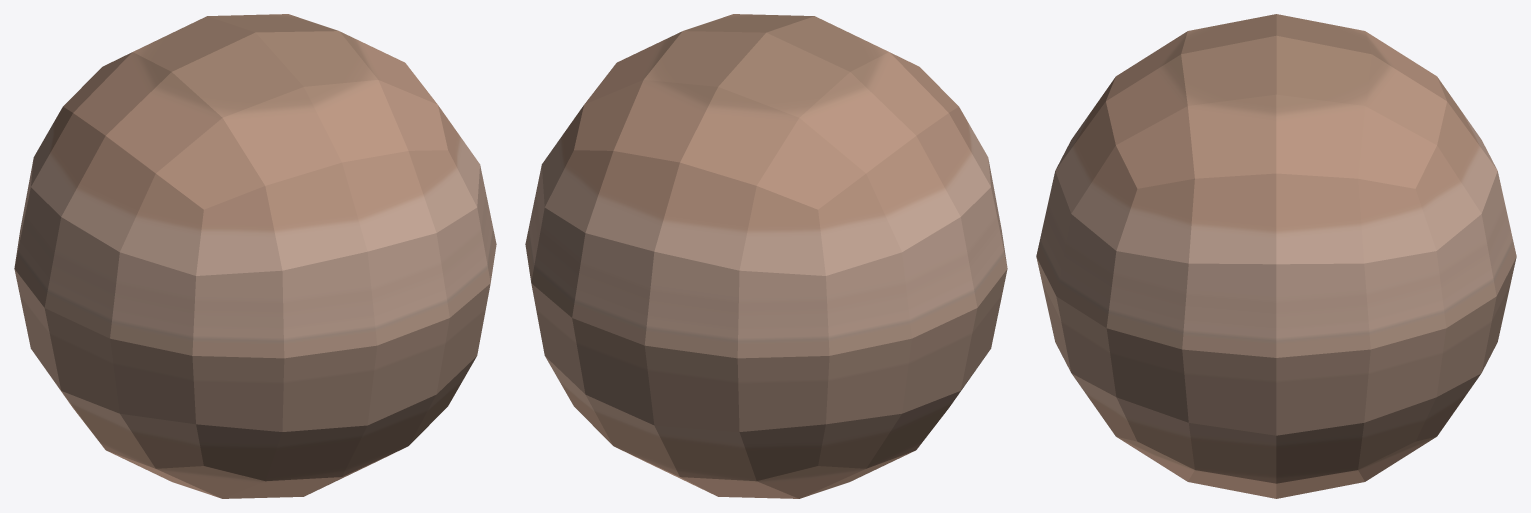
The model's file is SM_Env_Scale_Jupiter_01.fbx.
The picture shows the model from 3 angles, left to right: view 1: azimuth 30°, elevation 25°; view 2: azimuth 150°, elevation 25°; view 3: azimuth 270°, elevation 25°; orthographic projection.
Parts seen in each view (by area): view 1: SM_Env_Scale_Jupiter_01; view 2: SM_Env_Scale_Jupiter_01; view 3: SM_Env_Scale_Jupiter_01.
Boxes of the visible parts, bbox=[...] form: SM_Env_Scale_Jupiter_01: bbox=[14, 14, 496, 498]; SM_Env_Scale_Jupiter_01: bbox=[525, 14, 1007, 498]; SM_Env_Scale_Jupiter_01: bbox=[1036, 14, 1516, 498].
Size of the model in its own units: 28.13 by 28.53 by 28.13.
